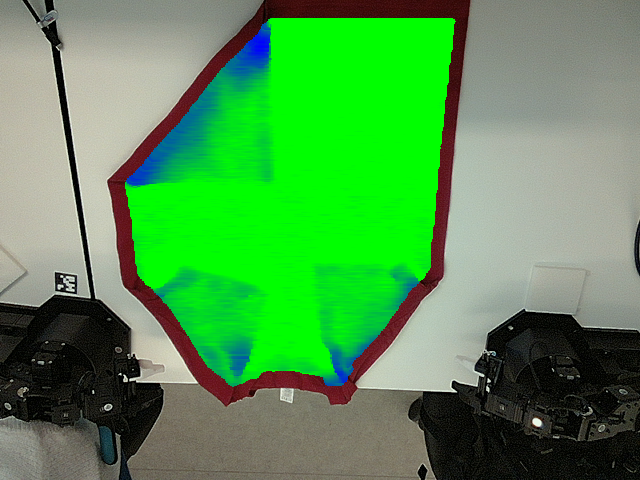V: (234, 272, 279, 321), (306, 253, 350, 300), (235, 151, 286, 191), (171, 257, 208, 294)
